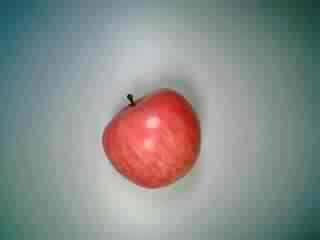apple: (102, 84, 206, 188)
